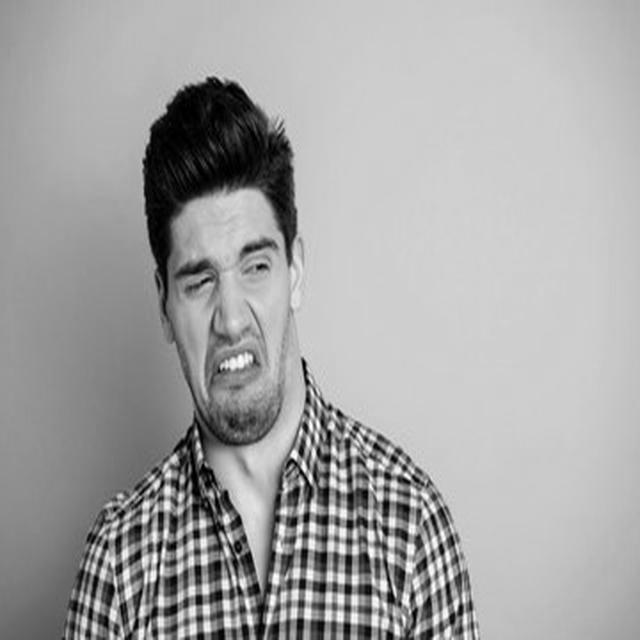Disgust: (167, 191, 292, 446)
